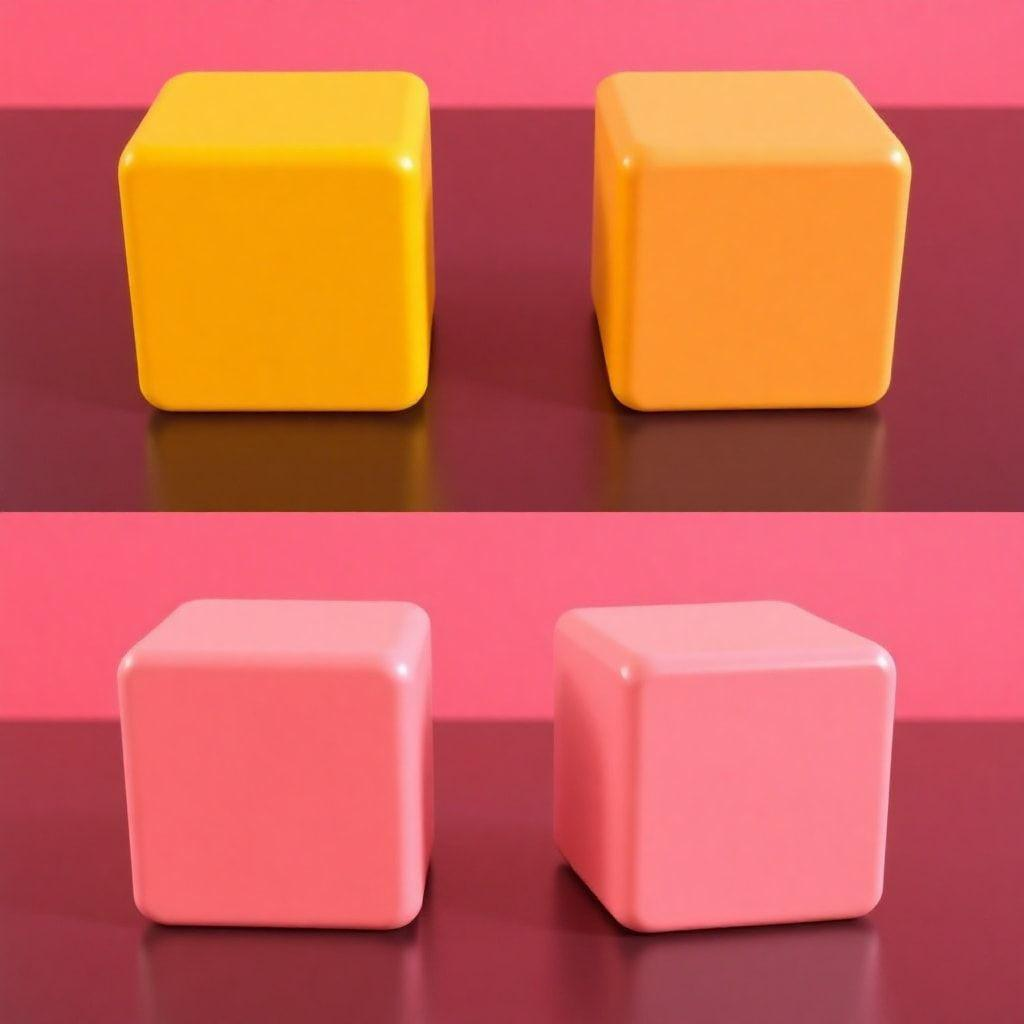cube: (551, 597, 896, 934), (589, 67, 912, 412), (116, 68, 434, 413), (115, 596, 433, 930)
